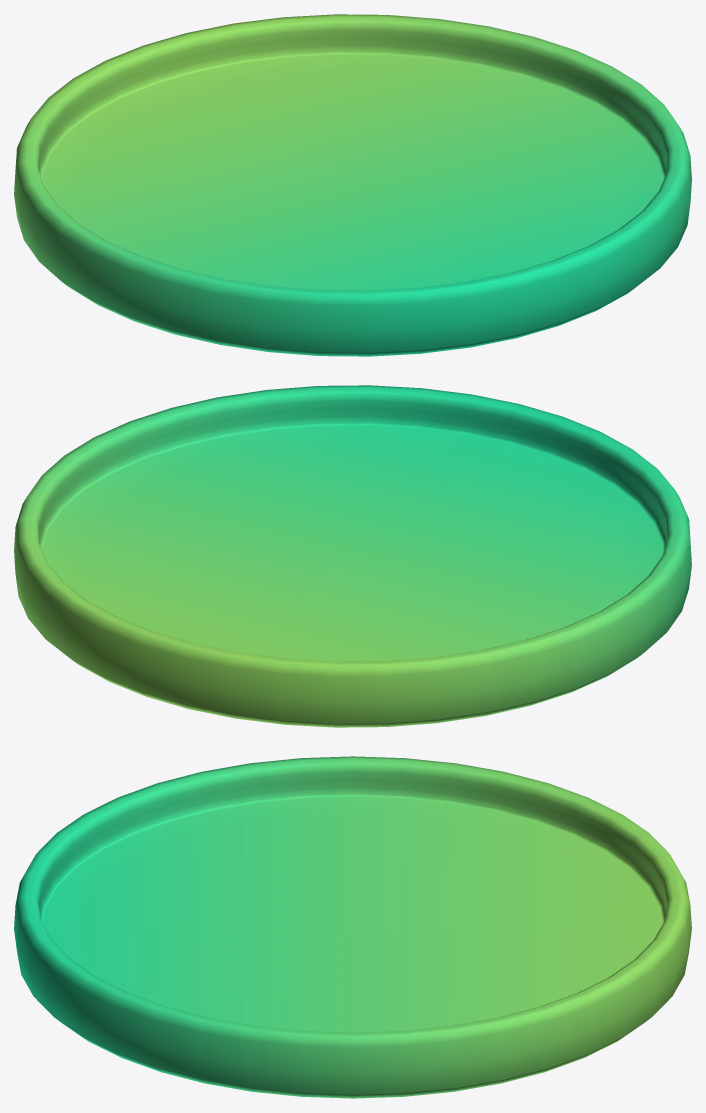
The model's file is PlateCG.fbx.
3 renders of one model, top to bottom at view 1: azimuth 30°, elevation 25°; view 2: azimuth 150°, elevation 25°; view 3: azimuth 270°, elevation 25°, orthographic.
Visible parts, largest first — view 1: pCylinder1; view 2: pCylinder1; view 3: pCylinder1.
Part boxes in pixels (box(x1,y1,x2,y2)): pCylinder1: box(14, 14, 691, 356); pCylinder1: box(14, 385, 691, 727); pCylinder1: box(14, 756, 691, 1098).
Bounding box in the file's own units: 19.39 × 2 × 19.39.
Materials: 1 (1 with a texture image).
